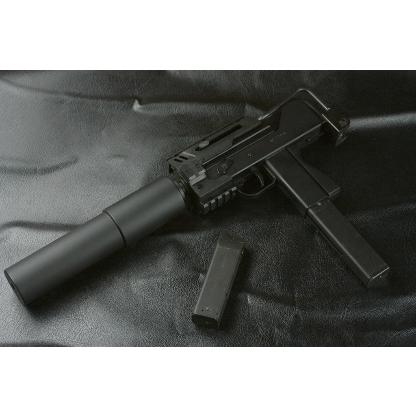gun: (3, 82, 388, 310)
